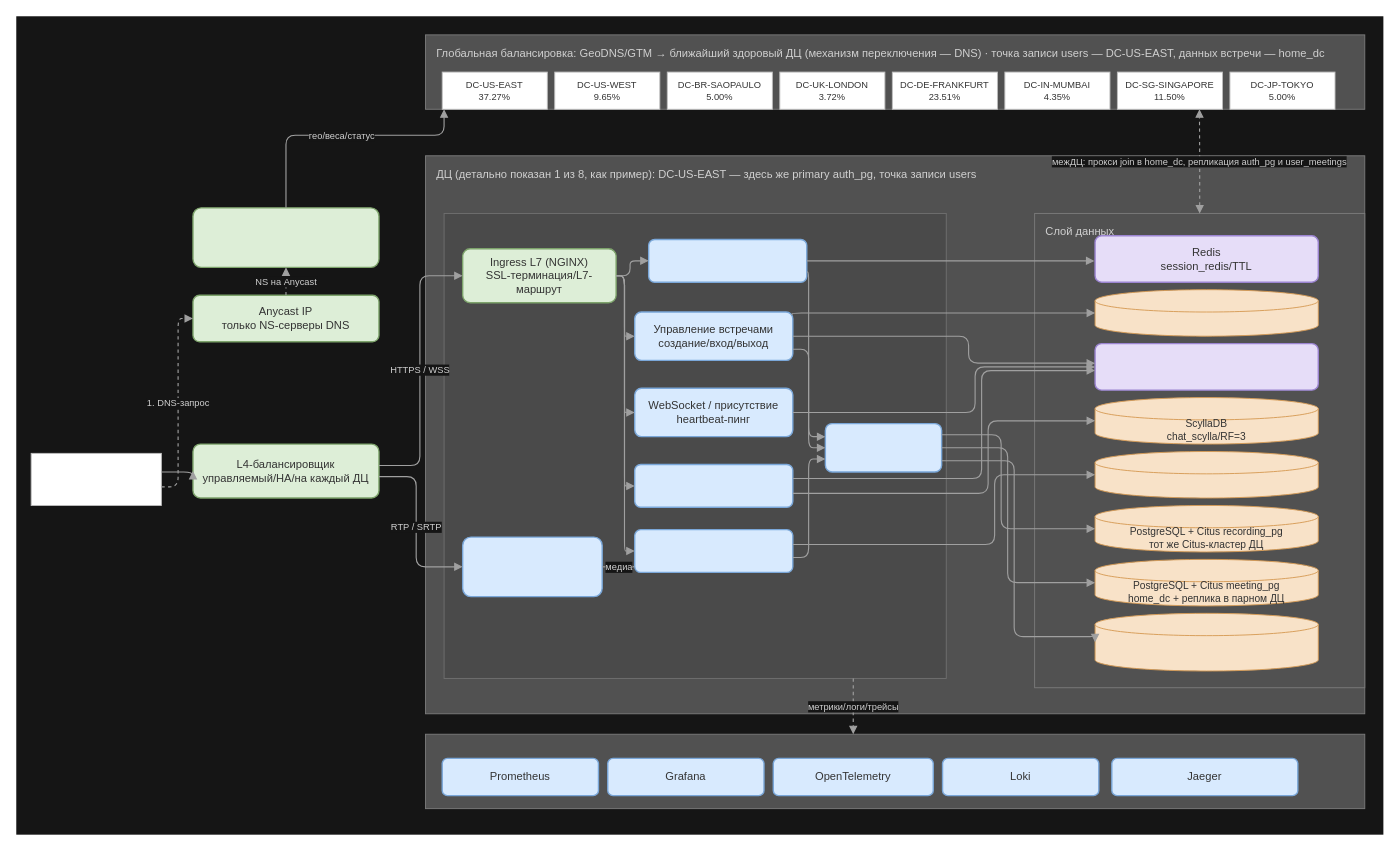
The diagram is 1399 pixels wide and 850 high, and some of its shapes have lost their labels. Here are the shapes that lost their labels. From the top down, the box of each, then its label:
(192, 207, 379, 268): GeoDNS / GTM выбор и переключение ДЦ гео / latency / health / веса
(648, 238, 807, 283): Аутентификация Users API
(1094, 289, 1318, 336): ScyllaDB meeting_scylla/RF=3 user_meetings — копия в каждом ДЦ
(1094, 343, 1319, 390): Redis runtime_redis/горячие данные
(443, 213, 946, 678): Kubernetes-кластер/3 зоны доступности
(824, 422, 942, 472): PgBouncer пул соединений к PG
(30, 452, 161, 505): Клиент веб/десктоп/WebRTC
(634, 463, 793, 508): Чат встречи
(1094, 451, 1318, 498): Объектное хранилище S3 / ≥3 копий
(462, 536, 602, 597): Пул SFU (медиа) в home_dc встречи
(634, 529, 793, 573): Воркеры записи
(1094, 612, 1318, 671): PostgreSQL auth_pg primary — точка записи users в других ДЦ — реплики
(425, 733, 1365, 809): Наблюдаемость (HA, N+1)
